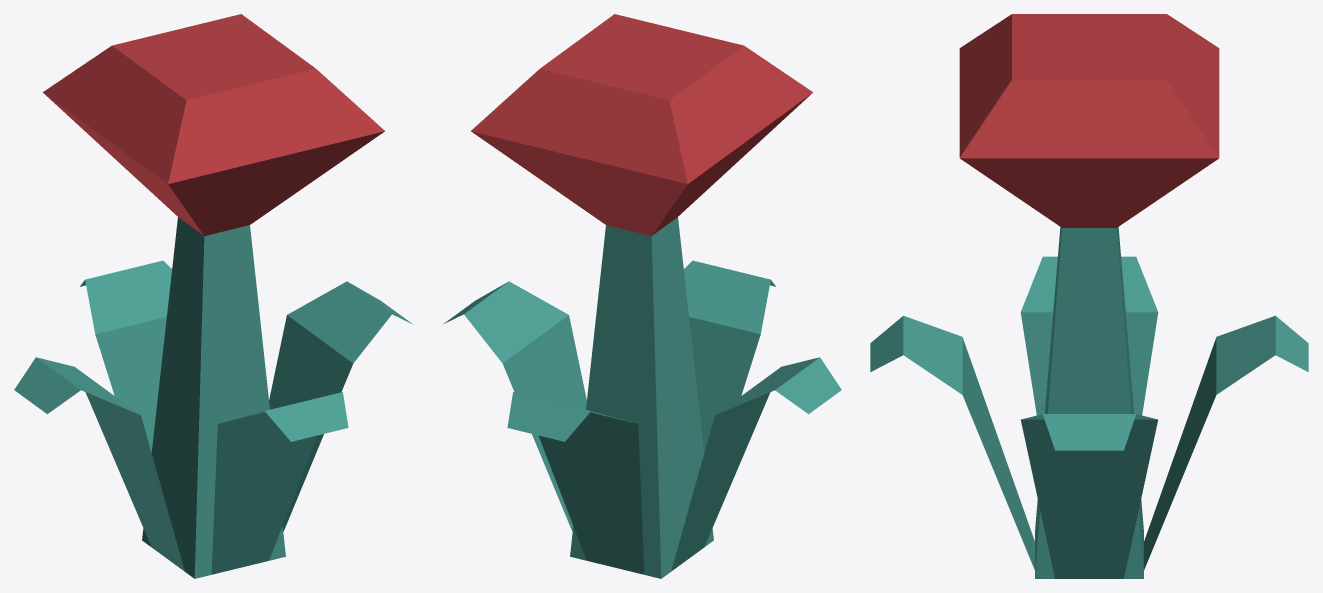
File: flower_red2.obj
3 views of the same model, side by side, from view 1: azimuth 30°, elevation 25°; view 2: azimuth 150°, elevation 25°; view 3: azimuth 270°, elevation 25° (orthographic). The views are drawn at different scales.
Visible parts, largest first — view 1: flower_red2; view 2: flower_red2; view 3: flower_red2.
Part boxes in pixels (x1,y1,x2,y2): flower_red2: (14, 14, 412, 578); flower_red2: (443, 14, 841, 578); flower_red2: (870, 14, 1308, 578).
Size of the model in its own units: 1.71 by 2.2 by 1.71.
